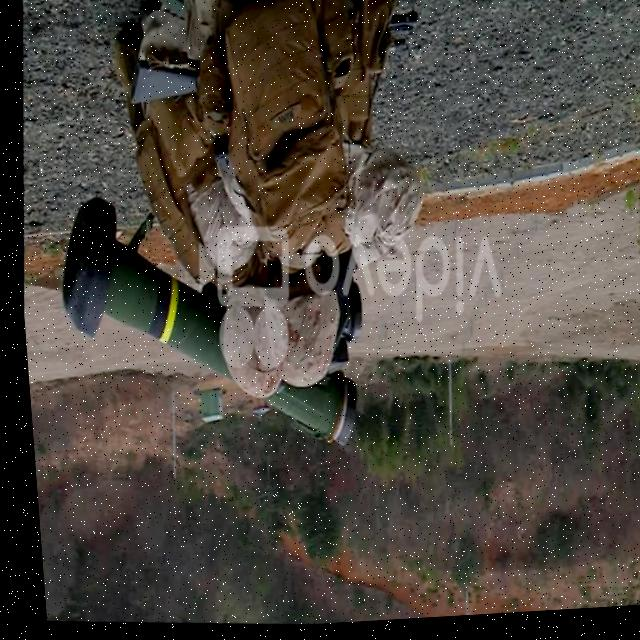rocket: (45, 196, 357, 456)
